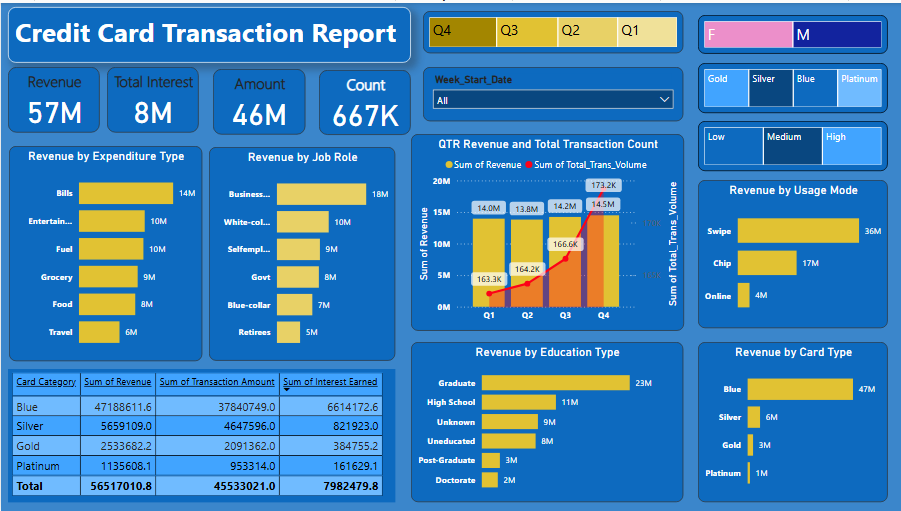

The page's visual inventory and layout, read from the dashboard file:
{"tool":"powerbi","page":{"name":"CC Transaction","canvas":[1280,720],"ordinal":0},"visuals":[{"type":"textbox","box":[9.5,6,571.4,78.6],"z":0},{"type":"lineStackedColumnComboChart","title":"QTR Revenue and Total Transaction Count","fields":{"Category":["creditcard_db creditcard_details.Qtr"],"Y":["Sum(creditcard_db creditcard_details.Revenue)"],"Y2":["Sum(creditcard_db creditcard_details.Total_Trans_Volume)"]},"box":[581.1,185.7,386.9,279.2],"z":1000},{"type":"clusteredBarChart","title":"Revenue by Education Type","fields":{"Category":["creditcard_db customer_details.Education_Level"],"Y":["Sum(creditcard_db creditcard_details.Revenue)"]},"box":[581.1,480.5,385.5,226.8],"z":2000},{"type":"clusteredBarChart","title":"Revenue by Expenditure Type","fields":{"Category":["creditcard_db creditcard_details.Exp_Type"],"Y":["Sum(creditcard_db creditcard_details.Revenue)"]},"box":[11.3,202.7,273.5,304.7],"z":3000},{"type":"clusteredBarChart","title":"Revenue by Job Role","fields":{"Category":["creditcard_db customer_details.Customer_Job"],"Y":["Sum(creditcard_db creditcard_details.Revenue)"]},"box":[294.8,204.1,263.6,303.3],"z":4000},{"type":"clusteredBarChart","title":"Revenue by Card Type","fields":{"Category":["creditcard_db creditcard_details.Card_Category"],"Y":["Sum(creditcard_db creditcard_details.Revenue)"]},"box":[987.9,480.5,269.3,226.8],"z":5000},{"type":"clusteredBarChart","title":"Revenue by Usage Mode","fields":{"Y":["Sum(creditcard_db creditcard_details.Revenue)"],"Category":["creditcard_db creditcard_details.Use_Chip"]},"box":[987.9,250.9,269.3,209.8],"z":6000},{"type":"tableEx","fields":{"Values":["creditcard_db creditcard_details.Card_Category","Sum(creditcard_db creditcard_details.Revenue)","Sum(creditcard_db creditcard_details.Total_Trans_Amt)","Sum(creditcard_db creditcard_details.Interest_Earned)"]},"box":[9.9,518.7,548.5,188.5],"z":7000},{"type":"card","title":"Revenue","fields":{"Values":["Sum(creditcard_db creditcard_details.Revenue)"]},"box":[9.6,90.6,130.4,93.3],"z":8000},{"type":"card","title":"Count","fields":{"Values":["Sum(creditcard_db creditcard_details.Total_Trans_Volume)"]},"box":[450.7,95,130.4,92.1],"z":9000},{"type":"card","title":"Total Interest","fields":{"Values":["Sum(creditcard_db creditcard_details.Interest_Earned)"]},"box":[149.6,90.6,130.4,93.3],"z":10000},{"type":"card","title":"Amount","fields":{"Values":["Sum(creditcard_db creditcard_details.Total_Trans_Amt)"]},"box":[300,92.9,131,92.9],"z":11000},{"type":"slicer","fields":{"Values":["creditcard_db creditcard_details.Week_Start_Date"]},"box":[598.3,90.6,369.1,76.8],"z":12000},{"type":"treemap","fields":{"Group":["creditcard_db creditcard_details.Qtr"],"Values":["Avg(creditcard_db creditcard_details.Client_Num)"]},"box":[598.3,11,369.1,60.4],"z":13000},{"type":"treemap","fields":{"Group":["creditcard_db customer_details.Gender"],"Values":["Avg(creditcard_db customer_details.Client_Num)"]},"box":[987.9,17,269.3,55.3],"z":14000},{"type":"treemap","fields":{"Values":["Avg(creditcard_db creditcard_details.Client_Num)"],"Group":["creditcard_db creditcard_details.Card_Category"]},"box":[988,85.1,269,71.4],"z":15000},{"type":"treemap","fields":{"Values":["Avg(creditcard_db creditcard_details.Client_Num)"],"Group":["creditcard_db customer_details.IncomeGroup"]},"box":[988,167.4,269,71.4],"z":16000}]}

Visuals, with their boxes in screenshot pixels (x1, y1, x2, y2), scaled from the page's 1280x720 canvas onto the 901x511 screenshot:
textbox: x1=7, y1=4, x2=409, y2=60
"QTR Revenue and Total Transaction Count" lineStackedColumnComboChart: x1=409, y1=132, x2=681, y2=330
"Revenue by Education Type" clusteredBarChart: x1=409, y1=341, x2=680, y2=502
"Revenue by Expenditure Type" clusteredBarChart: x1=8, y1=144, x2=200, y2=360
"Revenue by Job Role" clusteredBarChart: x1=208, y1=145, x2=393, y2=360
"Revenue by Card Type" clusteredBarChart: x1=695, y1=341, x2=885, y2=502
"Revenue by Usage Mode" clusteredBarChart: x1=695, y1=178, x2=885, y2=327
tableEx - creditcard_db creditcard_details.Card_Category x Sum(creditcard_db creditcard_details.Revenue): x1=7, y1=368, x2=393, y2=502
"Revenue" card: x1=7, y1=64, x2=99, y2=131
"Count" card: x1=317, y1=67, x2=409, y2=133
"Total Interest" card: x1=105, y1=64, x2=197, y2=131
"Amount" card: x1=211, y1=66, x2=303, y2=132
slicer - creditcard_db creditcard_details.Week_Start_Date: x1=421, y1=64, x2=681, y2=119
treemap - creditcard_db creditcard_details.Qtr x Avg(creditcard_db creditcard_details.Client_Num): x1=421, y1=8, x2=681, y2=51
treemap - creditcard_db customer_details.Gender x Avg(creditcard_db customer_details.Client_Num): x1=695, y1=12, x2=885, y2=51
treemap - Avg(creditcard_db creditcard_details.Client_Num) x creditcard_db creditcard_details.Card_Category: x1=695, y1=60, x2=885, y2=111
treemap - Avg(creditcard_db creditcard_details.Client_Num) x creditcard_db customer_details.IncomeGroup: x1=695, y1=119, x2=885, y2=169
